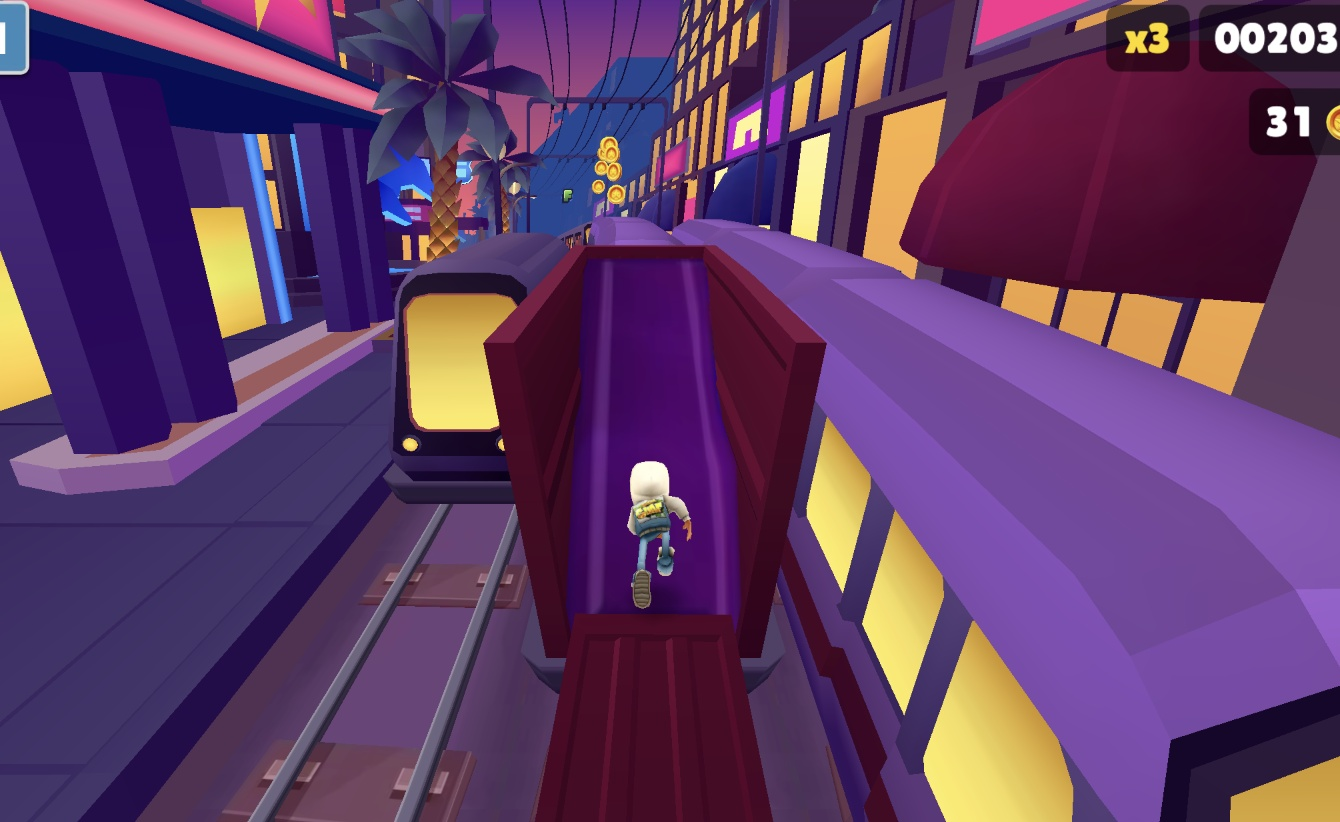train: (673, 219, 1340, 822), (481, 218, 827, 822), (384, 231, 581, 501), (559, 215, 677, 248)
